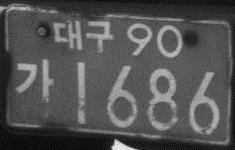0: (156, 23, 184, 58)
1: (72, 58, 88, 125)
6: (104, 62, 139, 128), (187, 69, 222, 135)
8: (146, 66, 180, 133)
9: (125, 21, 154, 58)
가: (14, 56, 57, 105)
대구_O: (51, 17, 114, 55)
